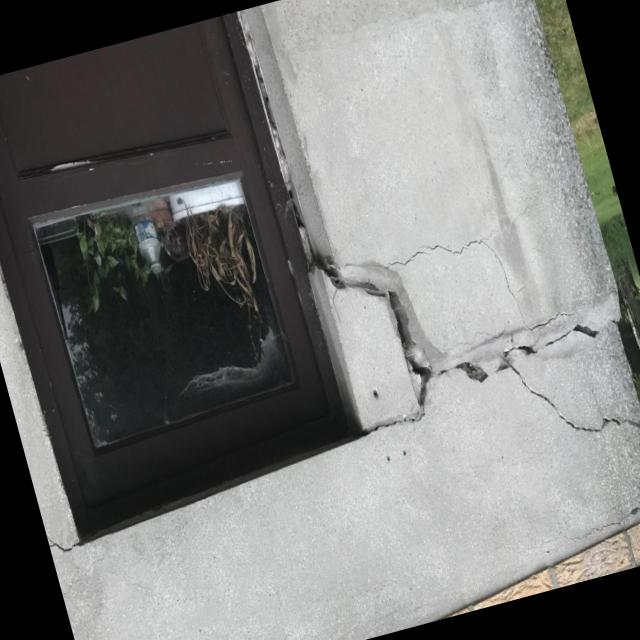crack: (236, 11, 449, 433), (496, 359, 640, 435), (454, 362, 489, 385), (572, 325, 606, 338)
